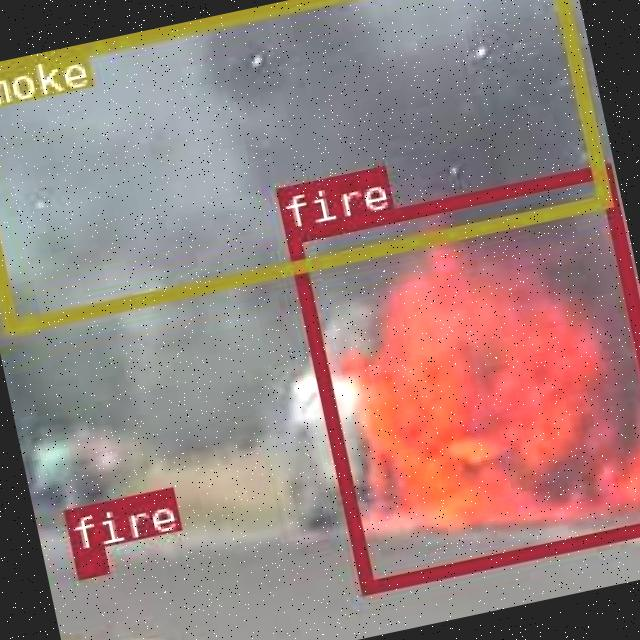fire: (282, 162, 640, 593), (72, 546, 105, 578)
smoke: (0, 0, 609, 334)
